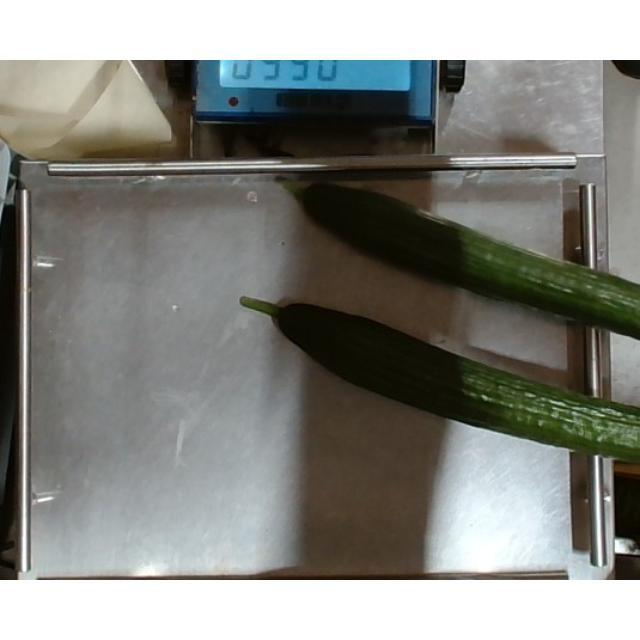cucumber: (224, 296, 640, 464), (270, 170, 640, 338)
